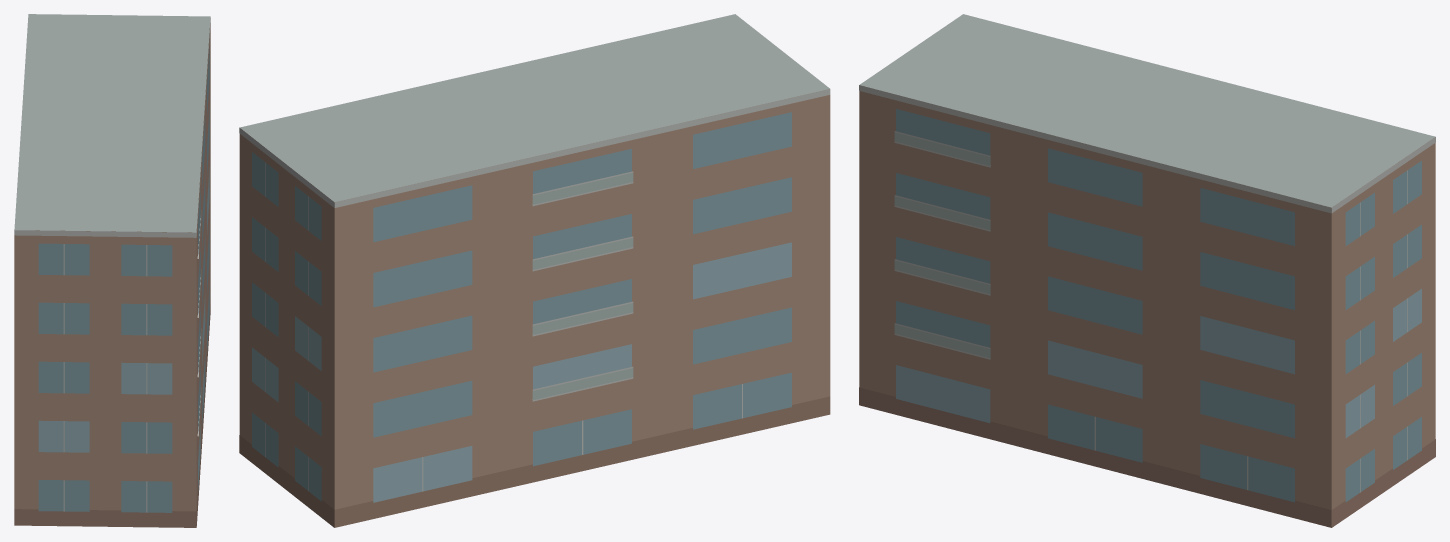
Rendered from survey-upis-32966578.glb.
3 renders of one model, left to right at view 1: azimuth 30°, elevation 25°; view 2: azimuth 150°, elevation 25°; view 3: azimuth 270°, elevation 25°, orthographic. The views are drawn at different scales.
Visible parts, largest first — view 1: survey-upis-32966578.tmp; view 2: survey-upis-32966578.tmp; view 3: survey-upis-32966578.tmp.
Boxes of the visible parts, left/top/right/bottom form: survey-upis-32966578.tmp: left=14, top=14, right=210, bottom=527; survey-upis-32966578.tmp: left=239, top=14, right=830, bottom=527; survey-upis-32966578.tmp: left=859, top=14, right=1435, bottom=527.
Bounding box in the file's own units: 17.52 × 13.5 × 22.04.
